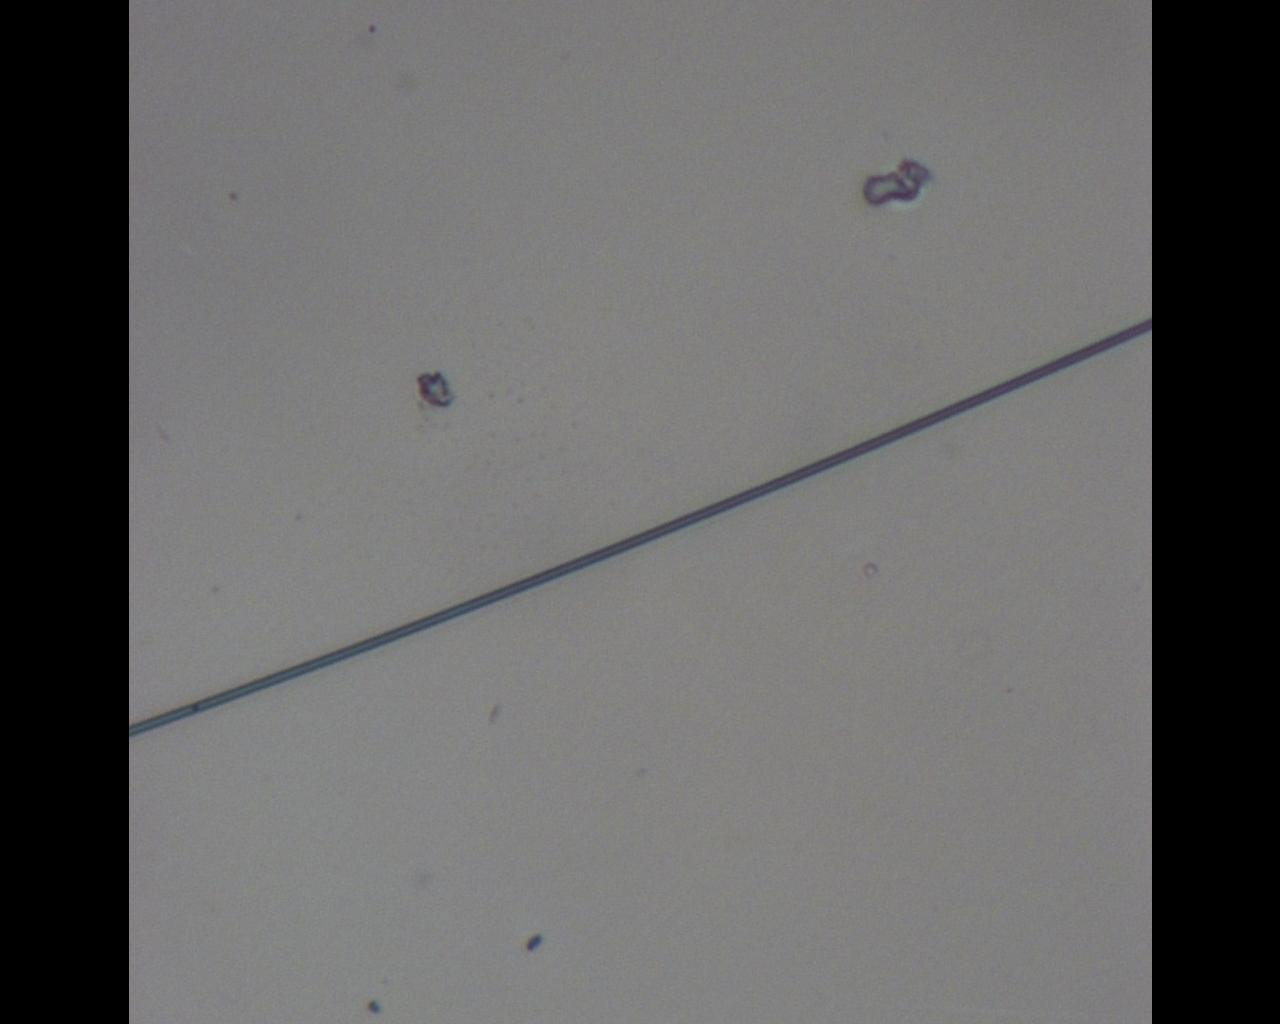fiber: (127, 315, 1151, 741)
